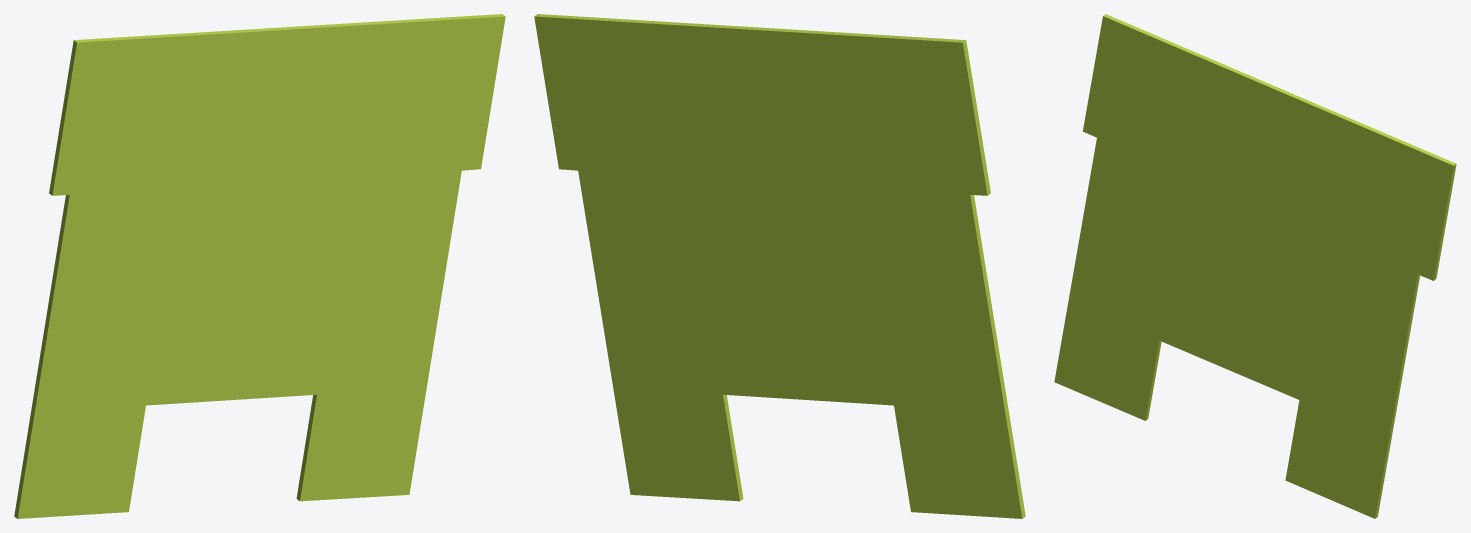
3 views of the same model, side by side, from view 1: azimuth 30°, elevation 25°; view 2: azimuth 150°, elevation 25°; view 3: azimuth 330°, elevation 25° (orthographic). The views are drawn at different scales.
Parts seen in each view (by area): view 1: osm-way27917482-F0; view 2: osm-way27917482-F0; view 3: osm-way27917482-F0.
Boxes of the visible parts, x1=… form: osm-way27917482-F0: x1=14, y1=14, x2=505, y2=518; osm-way27917482-F0: x1=534, y1=14, x2=1025, y2=518; osm-way27917482-F0: x1=1054, y1=14, x2=1456, y2=518.
Bounding box in the file's own units: 12.31 × 12.85 × 0.15.
